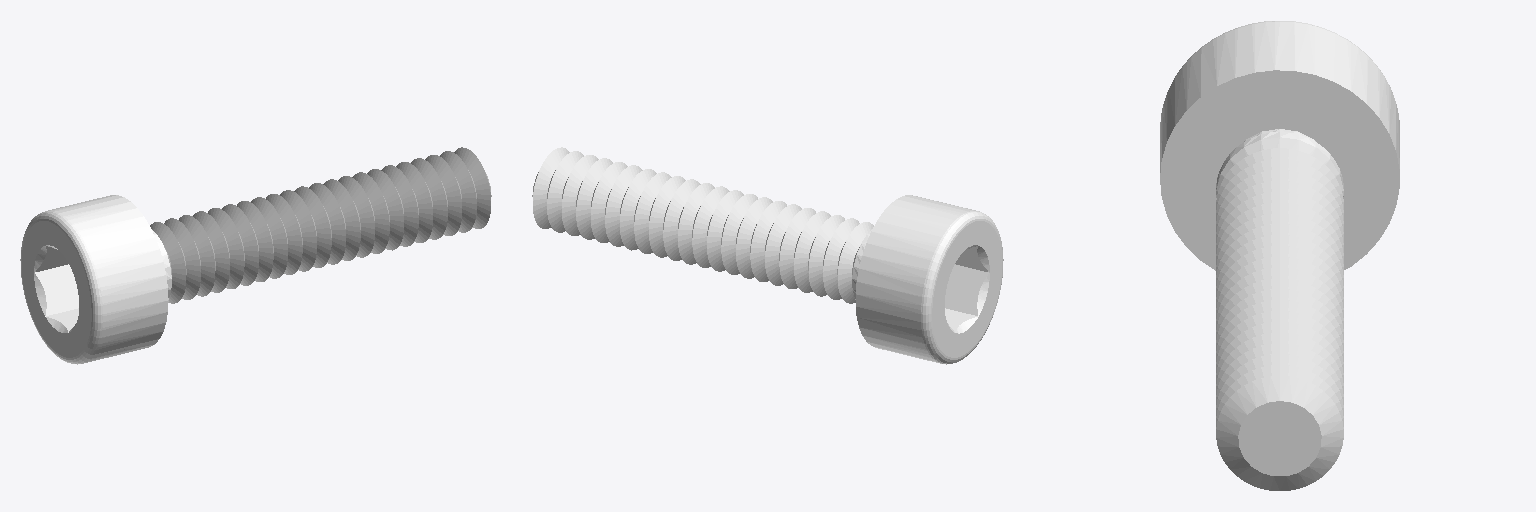
URDF robot description (hexagon_bolt):
<?xml version="1.0" encoding="utf-8"?>
<!-- This URDF was automatically created by SolidWorks to URDF Exporter! Originally created by [author] ([email redacted]) 
     Commit Version: 1.6.0-4-g7f85cfe  Build Version: 1.6.7995.38578
     For more information, please see http://wiki.ros.org/sw_urdf_exporter -->
<robot
  name="hexagon_bolt">
  <link
    name="hexagon_bolt_base_link">
    <inertial>
      <origin
        xyz="-6.9389E-18 3.9031E-18 -1.3878E-17"
        rpy="0 0 0" />
      <mass
        value="0.0048557" />
      <inertia
        ixx="1.387E-07"
        ixy="1.944E-12"
        ixz="1.8554E-13"
        iyy="6.111E-07"
        iyz="-8.0444E-15"
        izz="6.111E-07" />
    </inertial>
    <visual>
      <origin
        xyz="0 0 0"
        rpy="0 0 0" />
      <geometry>
        <mesh
          filename="package://hexagon_bolt/meshes/hexagon_bolt_base_link.dae" />
      </geometry>
      <material
        name="">
        <color
          rgba="1 1 1 1" />
      </material>
    </visual>
    <collision>
      <origin
        xyz="0 0 0"
        rpy="0 0 0" />
      <geometry>
        <mesh
          filename="package://hexagon_bolt/meshes/hexagon_bolt_base_link.dae" />
      </geometry>
    </collision>
  </link>
</robot>

--- What the picture shows (computed from the rendered views, not written in the file) ---
3 views of the same robot in one strip: view 1: azimuth 30°, elevation 25°; view 2: azimuth 150°, elevation 25°; view 3: azimuth 270°, elevation 25° (orthographic).
Robot: hexagon_bolt — 1 links, 0 joints (none); root link hexagon_bolt_base_link; default pose: all joints at 0.
Links seen in each view (by area): view 1: hexagon_bolt_base_link; view 2: hexagon_bolt_base_link; view 3: hexagon_bolt_base_link.
Link boxes in pixels (x1,y1,x2,y2): hexagon_bolt_base_link: [20, 147, 491, 364]; hexagon_bolt_base_link: [532, 147, 1003, 364]; hexagon_bolt_base_link: [1160, 21, 1399, 490].
Size in the robot's own frame: 0.058 by 0.0187 by 0.0187 metres.
Meshes: 1 distinct files referenced, 1 mesh visuals loaded (1 Collada DAE).